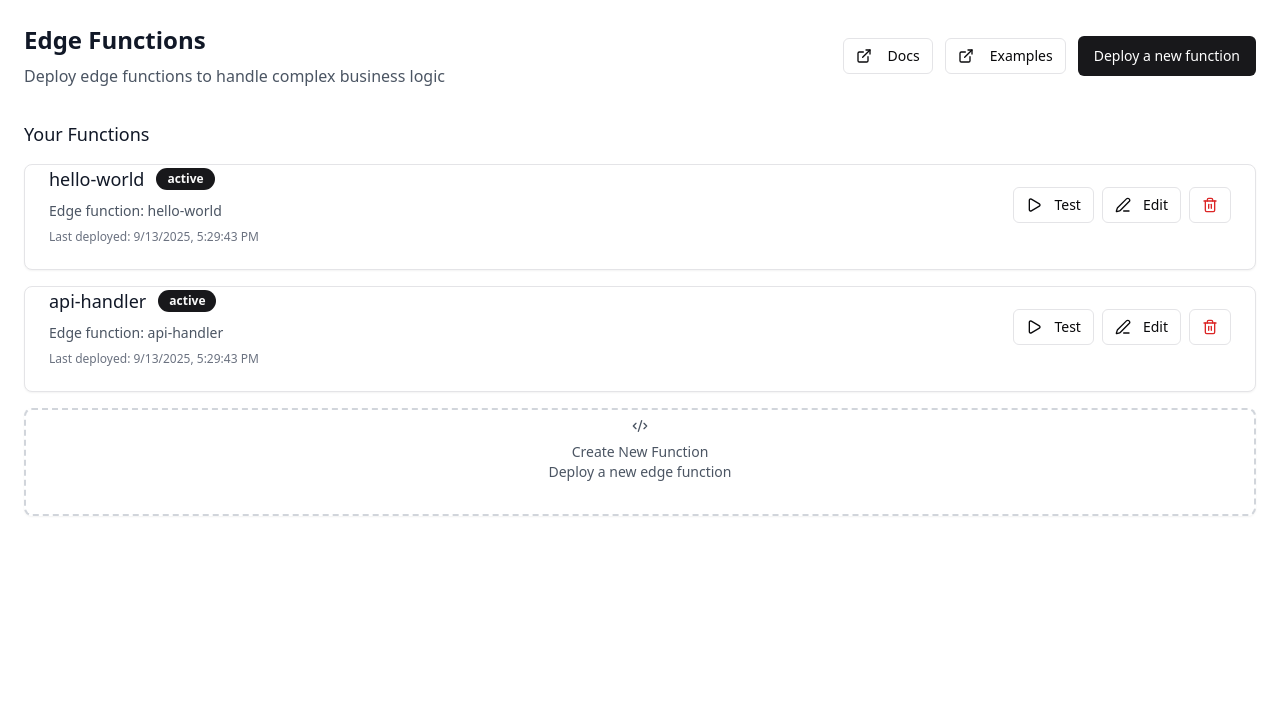
Test: FunctionsList › Functions List › should open test modal when Test button is clicked
Expected: the heading "hello-world" is shown, 49,165 -> 144,193
Click the button "Test" in the row of "Edge function: hello-world": [1054, 205] box 1014,187 -> 1094,223
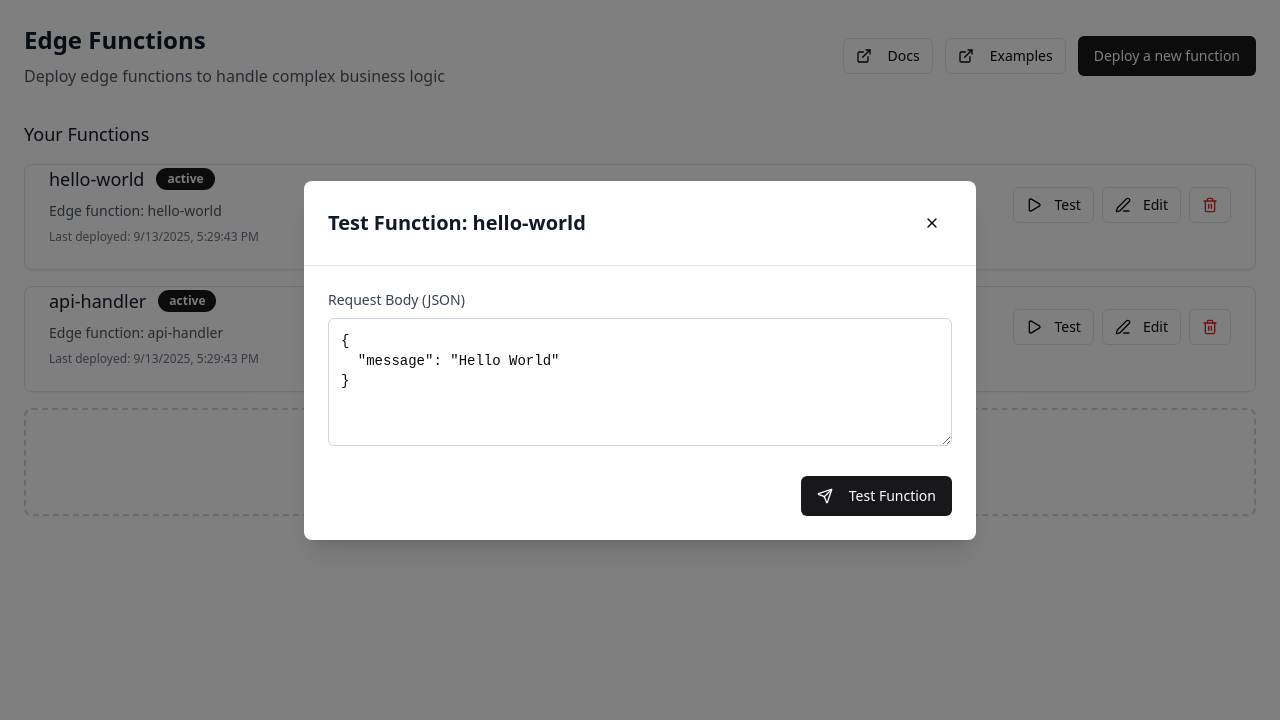
Result: the heading "Test Function: hello-world" is shown at 328,208 -> 586,236
Result: the text "Request Body (JSON)" is shown at 328,290 -> 465,308
Result: the button "Test Function" is shown at 801,476 -> 952,516
